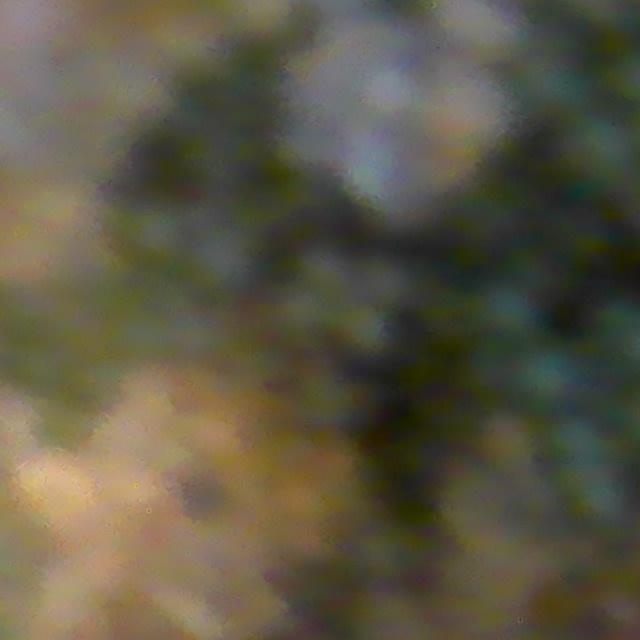SeaGrape: (563, 112, 640, 190), (513, 343, 586, 409), (473, 280, 540, 342)
